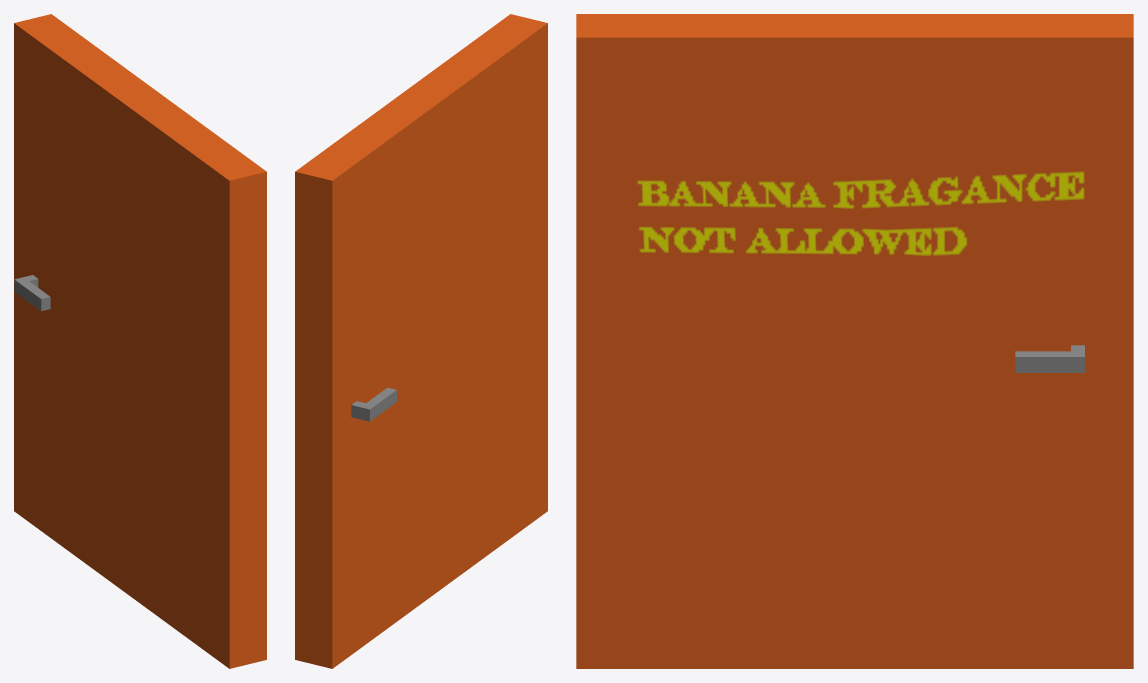
Rendered from HumanDoor.fbx.
3 views of the same model, side by side, from view 1: azimuth 30°, elevation 25°; view 2: azimuth 150°, elevation 25°; view 3: azimuth 270°, elevation 25° (orthographic). The views are drawn at different scales.
Visible parts, largest first — view 1: Cube; view 2: Cube; view 3: Cube.
Part boxes in pixels (x1,y1,x2,y2): Cube: (14,14,266,668); Cube: (295,14,547,668); Cube: (576,14,1133,668).
Size of the model in its own units: 40 by 200 by 250.
